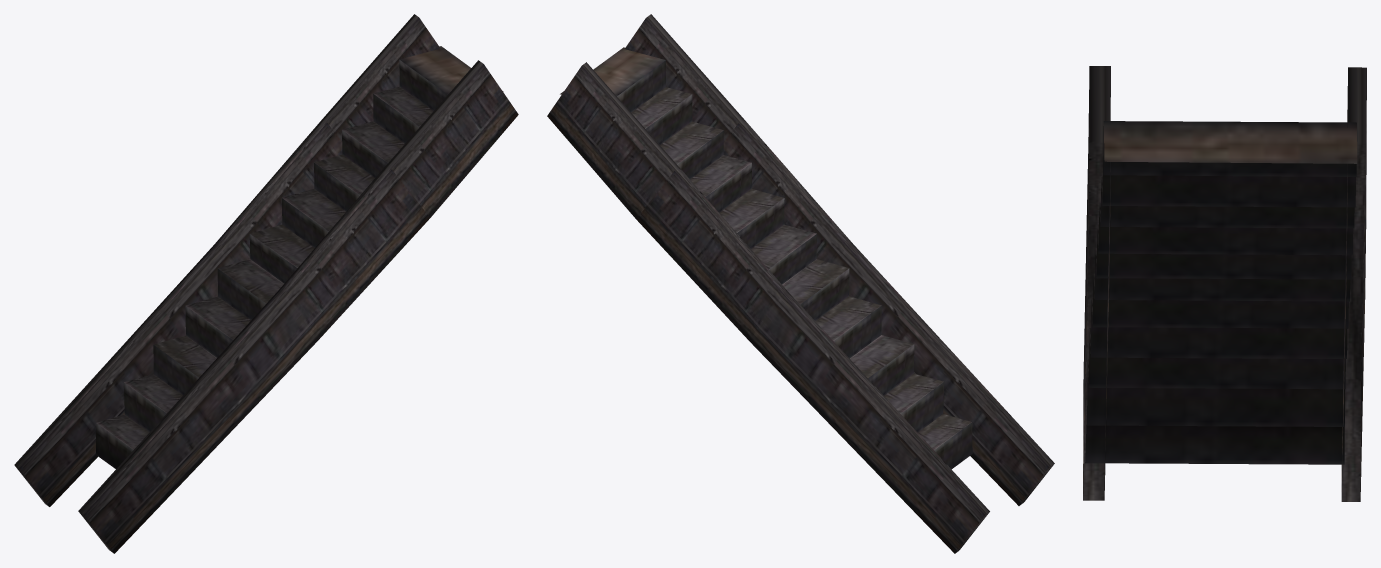
The model's file is Battle05_Road_03.FBX.
3 views of the same model, side by side, from view 1: azimuth 30°, elevation 25°; view 2: azimuth 150°, elevation 25°; view 3: azimuth 270°, elevation 25° (orthographic). The views are drawn at different scales.
Parts seen in each view (by area): view 1: Battle05_Road_03; view 2: Battle05_Road_03; view 3: Battle05_Road_03.
Boxes of the visible parts, x1,y1,x2,y2 form: Battle05_Road_03: (14,14,518,553); Battle05_Road_03: (547,14,1054,553); Battle05_Road_03: (1083,66,1366,501).
Size of the model in its own units: 14.1 by 12.32 by 3.97.
